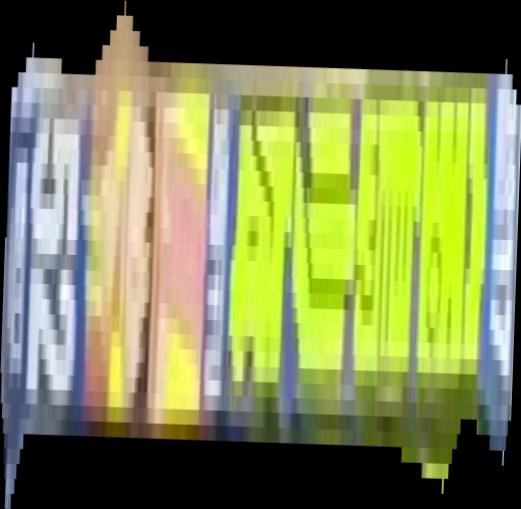flat: (1, 1, 521, 509)
